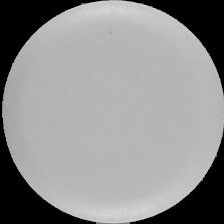21695-114: (0, 0, 224, 224)
